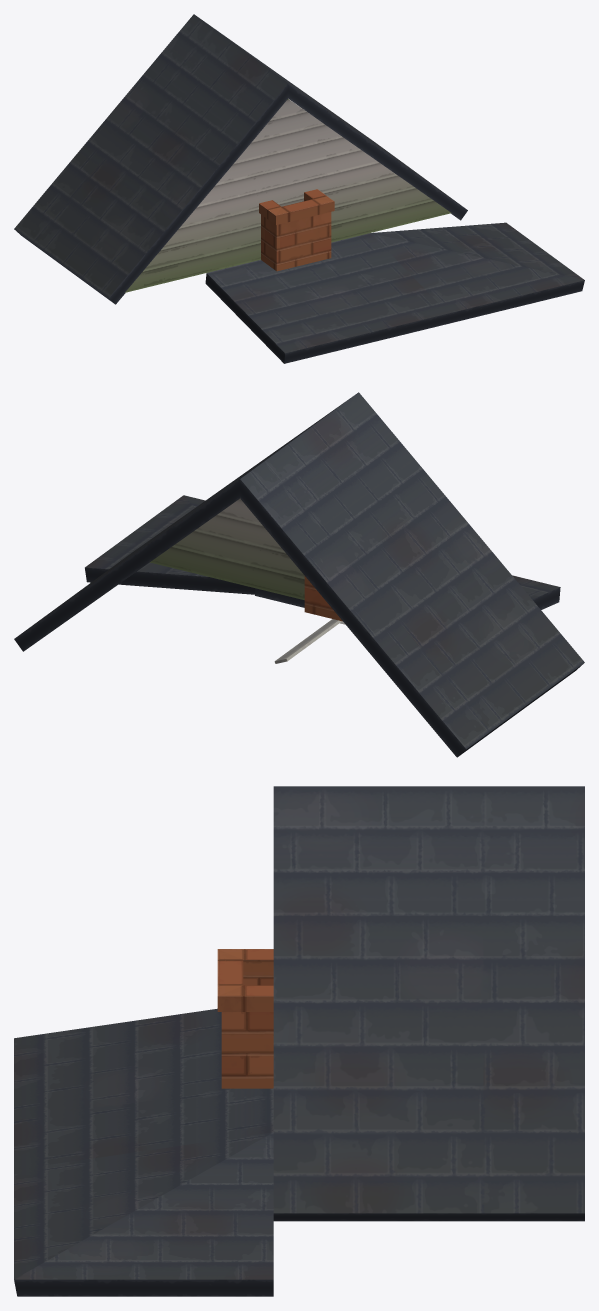
The model's file is SM_FarmRoof_01.fbx.
3 views of the same model, one above another, from view 1: azimuth 30°, elevation 25°; view 2: azimuth 150°, elevation 25°; view 3: azimuth 270°, elevation 25° (orthographic). The views are drawn at different scales.
Parts seen in each view (by area): view 1: farmhouse_roof, farmhouse_roofWall, farmhouse_porchRoof, farmhouse_porchRoof_Corner, farmhouse_chimney; view 2: farmhouse_roof, farmhouse_roofWall, farmhouse_porchRoof_Corner, farmhouse_porchRoof, farmhouse_chimney, farmhouse_trimboard; view 3: farmhouse_roof, farmhouse_porchRoof_Corner, farmhouse_porchRoof, farmhouse_chimney.
Part boxes in pixels (bbox=[...]): farmhouse_roof: bbox=[14, 14, 467, 304]; farmhouse_roofWall: bbox=[125, 99, 451, 292]; farmhouse_porchRoof: bbox=[205, 233, 448, 363]; farmhouse_porchRoof_Corner: bbox=[370, 222, 584, 323]; farmhouse_chimney: bbox=[259, 189, 334, 271]; farmhouse_roof: bbox=[14, 392, 584, 757]; farmhouse_roofWall: bbox=[150, 498, 304, 599]; farmhouse_porchRoof_Corner: bbox=[85, 495, 255, 594]; farmhouse_porchRoof: bbox=[255, 575, 560, 609]; farmhouse_chimney: bbox=[304, 576, 342, 621]; farmhouse_trimboard: bbox=[274, 619, 341, 663]; farmhouse_roof: bbox=[273, 786, 584, 1221]; farmhouse_porchRoof_Corner: bbox=[14, 1132, 273, 1296]; farmhouse_porchRoof: bbox=[14, 1008, 273, 1169]; farmhouse_chimney: bbox=[217, 949, 273, 1088].
Size of the model in its own units: 730 by 358 by 550.
